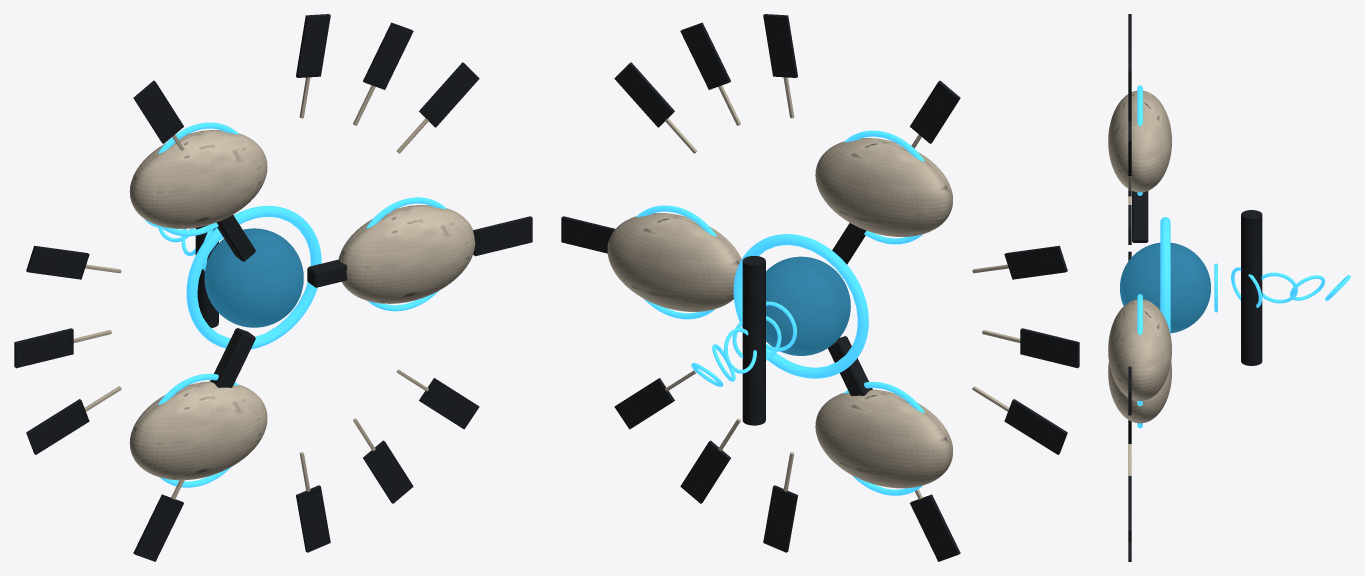
The model's file is place_station_research.glb.
The picture shows the model from 3 angles, left to right: view 1: azimuth 30°, elevation 25°; view 2: azimuth 150°, elevation 25°; view 3: azimuth 270°, elevation 25°; orthographic projection. The views are drawn at different scales.
Visible parts, largest first — view 1: LOD0_Station_Material_Hull, LOD0_Station_Material_Mechanical, LOD1_Station_Material_Mechanical, LOD0_Station_Material_Glass, LOD0_Station_Material_Accent, LOD1_Station_Material_Hull, LOD2_Station_Material_Mechanical, LOD1_Station_Material_Accent, LOD2_Station_Material_Accent; view 2: LOD0_Station_Material_Hull, LOD0_Station_Material_Mechanical, LOD1_Station_Material_Mechanical, LOD0_Station_Material_Accent, LOD0_Station_Material_Glass, LOD2_Station_Material_Mechanical, LOD1_Station_Material_Hull, LOD1_Station_Material_Accent, LOD2_Station_Material_Accent; view 3: LOD0_Station_Material_Hull, LOD0_Station_Material_Glass, LOD0_Station_Material_Mechanical, LOD0_Station_Material_Accent, LOD1_Station_Material_Mechanical, LOD1_Station_Material_Hull, LOD2_Station_Material_Mechanical, LOD1_Station_Material_Accent, LOD1_Station_Material_Glass.
Part boxes in pixels (<box>): LOD0_Station_Material_Hull: <box>84,77,474,498</box>; LOD0_Station_Material_Mechanical: <box>26,14,530,561</box>; LOD1_Station_Material_Mechanical: <box>14,22,532,558</box>; LOD0_Station_Material_Glass: <box>204,228,303,327</box>; LOD0_Station_Material_Accent: <box>145,122,446,487</box>; LOD1_Station_Material_Hull: <box>73,85,475,499</box>; LOD2_Station_Material_Mechanical: <box>133,80,532,561</box>; LOD1_Station_Material_Accent: <box>162,123,440,486</box>; LOD2_Station_Material_Accent: <box>167,126,441,485</box>; LOD0_Station_Material_Hull: <box>607,77,1009,499</box>; LOD0_Station_Material_Mechanical: <box>561,14,1067,561</box>; LOD1_Station_Material_Mechanical: <box>561,22,1079,560</box>; LOD0_Station_Material_Accent: <box>636,130,924,495</box>; LOD0_Station_Material_Glass: <box>766,256,850,355</box>; LOD2_Station_Material_Mechanical: <box>561,80,960,561</box>; LOD1_Station_Material_Hull: <box>607,85,1020,499</box>; LOD1_Station_Material_Accent: <box>642,130,920,494</box>; LOD2_Station_Material_Accent: <box>641,134,915,493</box>; LOD0_Station_Material_Hull: <box>1108,90,1171,475</box>; LOD0_Station_Material_Glass: <box>1120,242,1210,333</box>; LOD0_Station_Material_Mechanical: <box>1128,14,1262,541</box>; LOD0_Station_Material_Accent: <box>1137,85,1350,428</box>; LOD1_Station_Material_Mechanical: <box>1128,120,1262,561</box>; LOD1_Station_Material_Hull: <box>1109,92,1171,421</box>; LOD2_Station_Material_Mechanical: <box>1128,14,1260,443</box>; LOD1_Station_Material_Accent: <box>1138,88,1296,425</box>; LOD1_Station_Material_Glass: <box>1121,243,1209,332</box>.
Size of what is drawn, in the model's own units: 108 by 107 by 47.84.
Materials: 4 (4 with a texture image).
